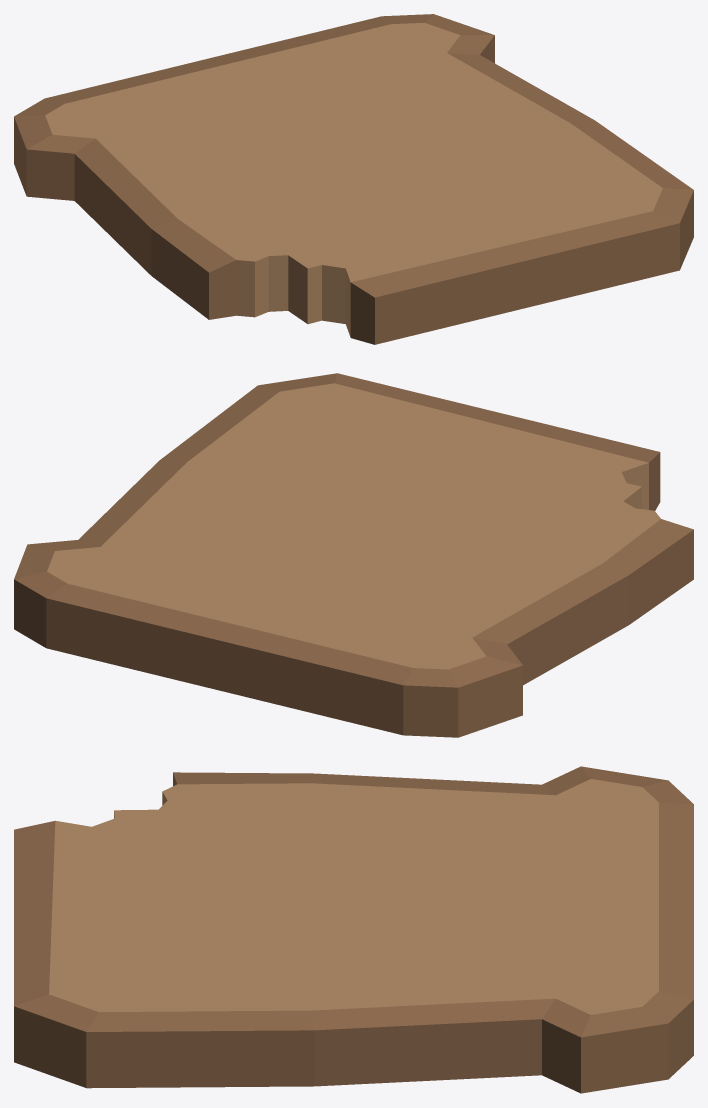
Rendered from BittenBread.glb.
3 renders of one model, top to bottom at view 1: azimuth 30°, elevation 25°; view 2: azimuth 150°, elevation 25°; view 3: azimuth 270°, elevation 25°, orthographic. The views are drawn at different scales.
Parts seen in each view (by area): view 1: BittenBread; view 2: BittenBread; view 3: BittenBread.
Boxes of the visible parts, x1=… form: BittenBread: x1=14, y1=14, x2=693, y2=344; BittenBread: x1=14, y1=373, x2=693, y2=737; BittenBread: x1=14, y1=766, x2=693, y2=1093.
Size of the model in its own units: 0.1722 by 0.0196 by 0.1825.
